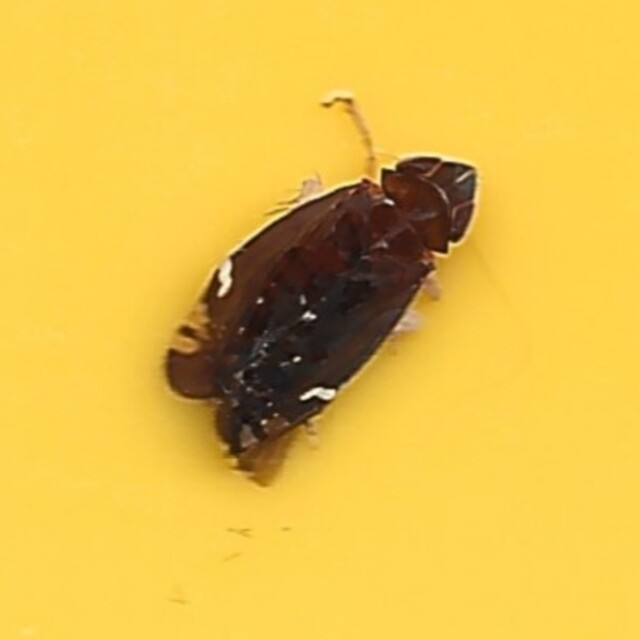Hemiptera: (159, 154, 481, 486)
